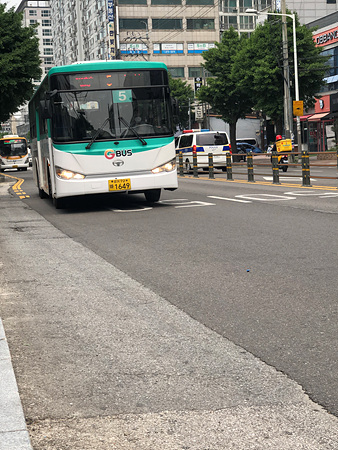bnum: (114, 89, 131, 101)
